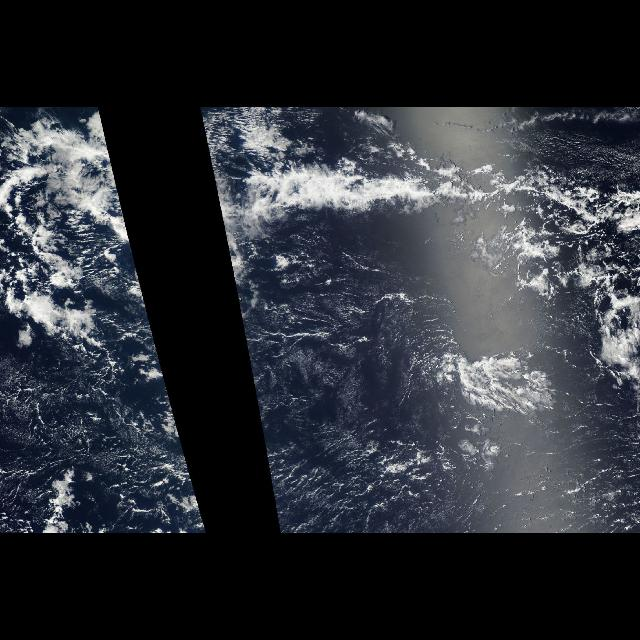Fish: (205, 134, 639, 248)
Gravel: (8, 364, 186, 522)
Sugar: (233, 246, 485, 534)
